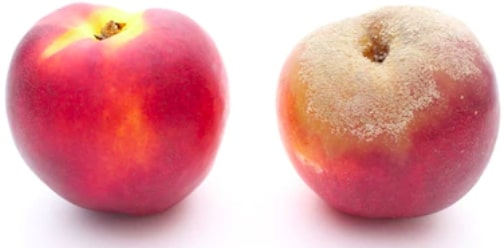damaged_peach: (278, 10, 497, 219)
peach: (9, 3, 222, 215)
